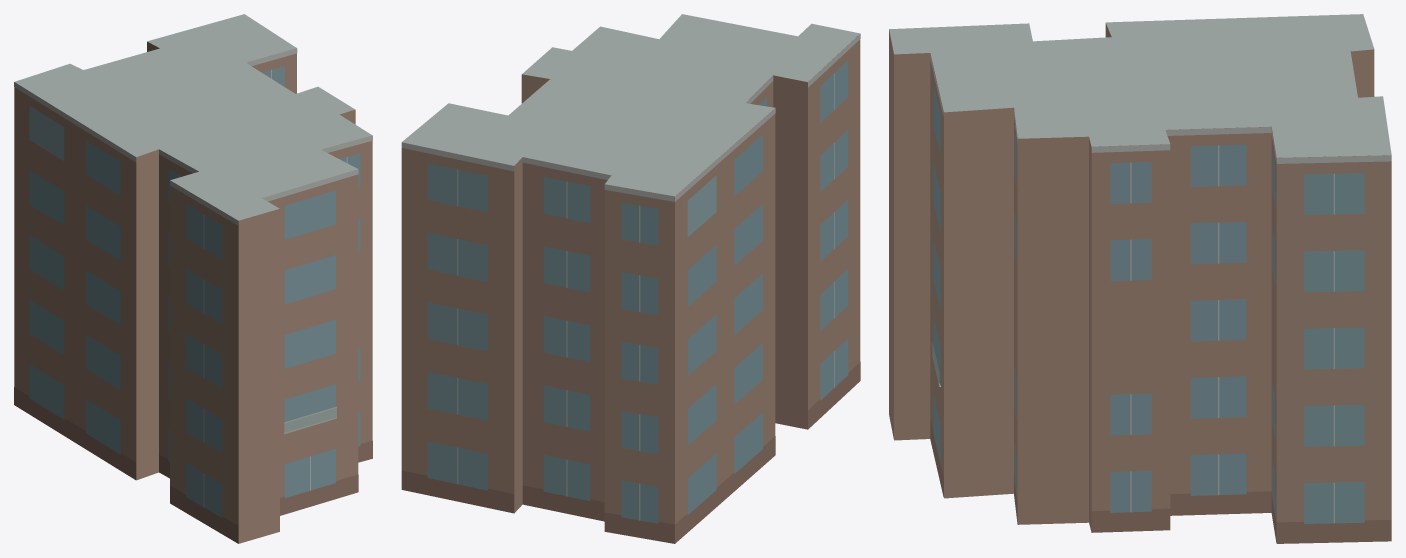
File: survey-upis-32960410.glb
3 renders of one model, left to right at view 1: azimuth 30°, elevation 25°; view 2: azimuth 150°, elevation 25°; view 3: azimuth 270°, elevation 25°, orthographic. The views are drawn at different scales.
Parts seen in each view (by area): view 1: survey-upis-32960410.tmp; view 2: survey-upis-32960410.tmp; view 3: survey-upis-32960410.tmp.
Part boxes in pixels (x1,y1,x2,y2): survey-upis-32960410.tmp: (14,14,372,543); survey-upis-32960410.tmp: (401,14,860,543); survey-upis-32960410.tmp: (889,14,1391,543).
Bounding box in the file's own units: 12.19 × 15.25 × 18.
